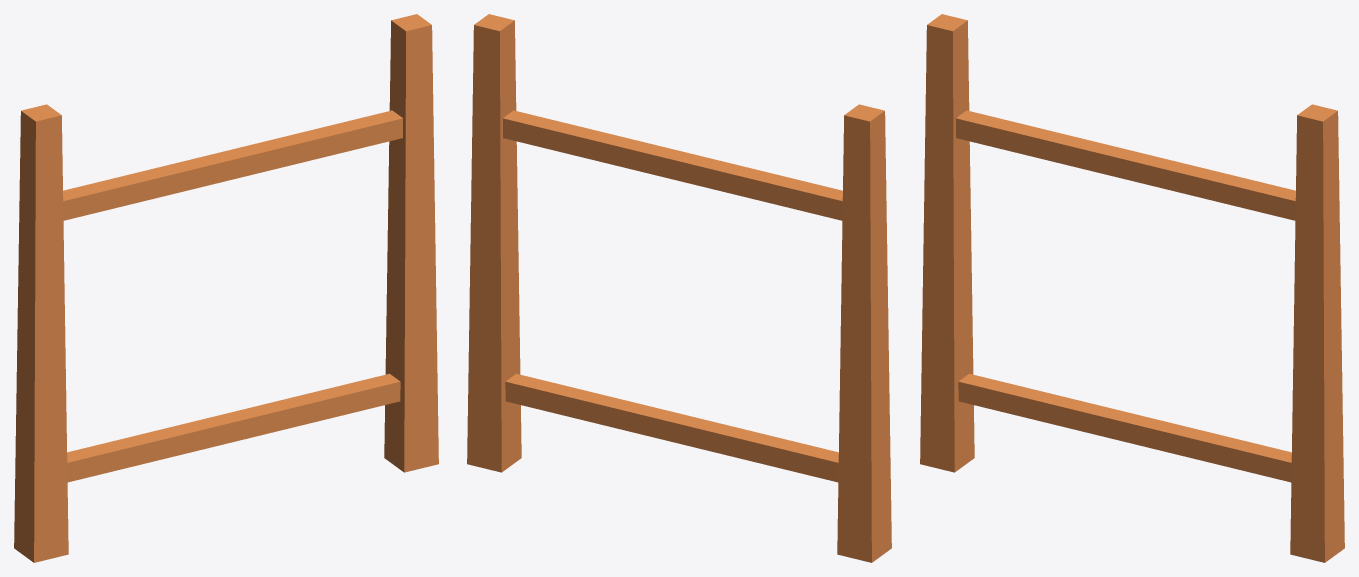
Rendered from fence.fbx.
The picture shows the model from 3 angles, left to right: view 1: azimuth 30°, elevation 25°; view 2: azimuth 150°, elevation 25°; view 3: azimuth 330°, elevation 25°; orthographic projection.
Parts seen in each view (by area): view 1: fence; view 2: fence; view 3: fence.
Part boxes in pixels (x1,y1,x2,y2): fence: (14,14,438,562); fence: (467,14,891,562); fence: (920,14,1344,562).
Bounding box in the file's own units: 5 × 5.17 × 0.4278.
